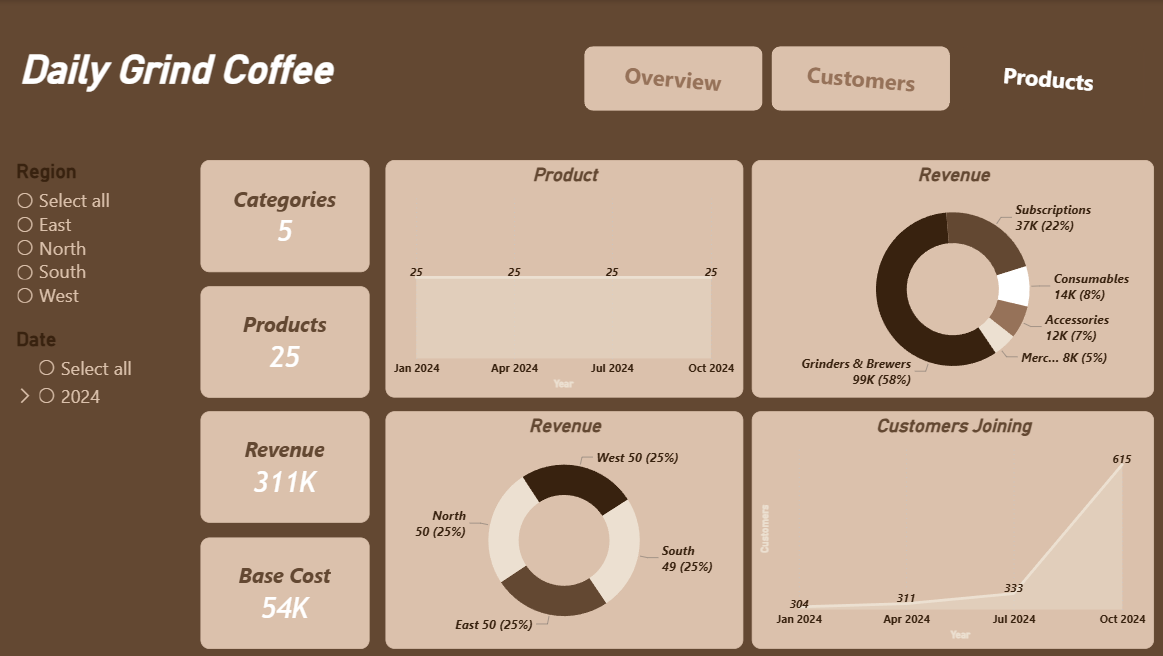

This screenshot's page, from the dashboard's own definition file:
{"tool":"powerbi","page":{"name":"Products","canvas":[1280,720],"ordinal":2},"visuals":[{"type":"cardVisual","fields":{"Data":["Count(Daily_Grind_Coffee.ProductCategory)"]},"box":[222.3,175.6,185.2,123.5],"z":0},{"type":"cardVisual","fields":{"Data":["Count(Daily_Grind_Coffee.ProductName)"]},"box":[222.3,314.2,185.2,122.1],"z":1000},{"type":"cardVisual","fields":{"Data":["Sum(Daily_Grind_Coffee.Base_Cost)"]},"box":[222.3,590.1,185.2,122.1],"z":2000},{"type":"donutChart","title":"Revenue","fields":{"Category":["Daily_Grind_Coffee.ProductCategory"],"Y":["Sum(Daily_Grind_Coffee.Profit)"]},"box":[827.4,175.6,441.9,260.7],"z":3000},{"type":"areaChart","title":"Customers Joining","fields":{"Category":["Daily_Grind_Coffee.OrderDate.Variation.Date Hierarchy.Year","Daily_Grind_Coffee.OrderDate.Variation.Date Hierarchy.Quarter","Daily_Grind_Coffee.OrderDate.Variation.Date Hierarchy.Month","Daily_Grind_Coffee.OrderDate.Variation.Date Hierarchy.Day"],"Y":["Count(Daily_Grind_Coffee.OrderID)"]},"box":[827.4,451.5,441.9,260.7],"z":4000},{"type":"cardVisual","fields":{"Data":["Sum(Daily_Grind_Coffee.Cleaned Revenue)"]},"box":[222.3,451.5,185.2,122.1],"z":5000},{"type":"lineChart","title":"Product","fields":{"Category":["Daily_Grind_Coffee.OrderDate.Variation.Date Hierarchy.Year","Daily_Grind_Coffee.OrderDate.Variation.Date Hierarchy.Quarter","Daily_Grind_Coffee.OrderDate.Variation.Date Hierarchy.Month","Daily_Grind_Coffee.OrderDate.Variation.Date Hierarchy.Day"],"Y":["Count(Daily_Grind_Coffee.ProductName)"]},"box":[425.4,175.6,392.5,260.7],"z":6000},{"type":"pieChart","title":"Revenue","fields":{"Category":["Daily_Grind_Coffee.Region"],"Y":["Count(Daily_Grind_Coffee.ProductID)"]},"box":[425.4,451.5,392.5,260.7],"z":7000},{"type":"pageNavigator","title":"n","box":[639.5,46.7,618.9,79.6],"z":8000},{"type":"textbox","box":[19.2,46.7,558.5,149.6],"z":9000},{"type":"listSlicer","fields":{"Values":["Daily_Grind_Coffee.Region"]},"box":[15.1,175.6,222.3,273.1],"z":9001},{"type":"listSlicer","title":"Date","fields":{"Values":["Daily_Grind_Coffee.OrderDate.Variation.Date Hierarchy.Year","Daily_Grind_Coffee.OrderDate.Variation.Date Hierarchy.Quarter","Daily_Grind_Coffee.OrderDate.Variation.Date Hierarchy.Month","Daily_Grind_Coffee.OrderDate.Variation.Date Hierarchy.Day"]},"box":[15.1,359.5,222.3,319.7],"z":9002}]}

Visuals, with their boxes in screenshot pixels (x1, y1, x2, y2), scaled from the page's 1280x720 canvas onto the 1163x656 screenshot:
cardVisual - Count(Daily_Grind_Coffee.ProductCategory): (202, 160, 370, 273)
cardVisual - Count(Daily_Grind_Coffee.ProductName): (202, 286, 370, 398)
cardVisual - Sum(Daily_Grind_Coffee.Base_Cost): (202, 538, 370, 649)
"Revenue" donutChart: (752, 160, 1153, 398)
"Customers Joining" areaChart: (752, 411, 1153, 649)
cardVisual - Sum(Daily_Grind_Coffee.Cleaned Revenue): (202, 411, 370, 523)
"Product" lineChart: (387, 160, 743, 398)
"Revenue" pieChart: (387, 411, 743, 649)
"n" pageNavigator: (581, 43, 1143, 115)
textbox: (17, 43, 525, 179)
listSlicer - Daily_Grind_Coffee.Region: (14, 160, 216, 409)
"Date" listSlicer: (14, 328, 216, 619)
